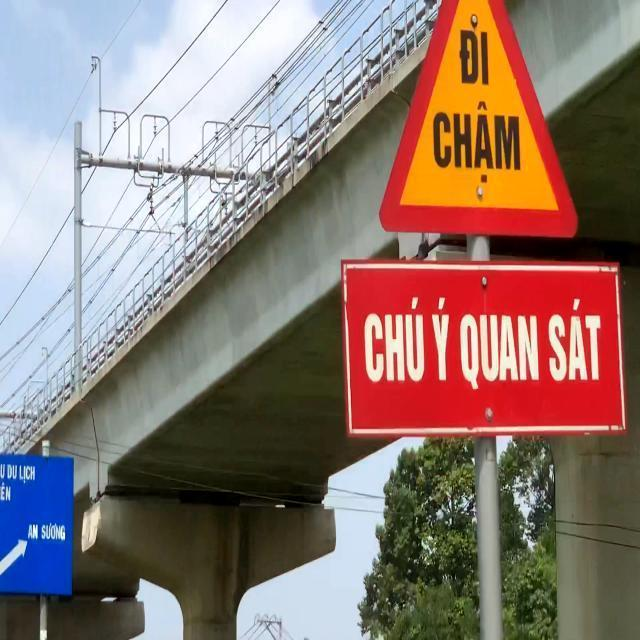245-di-cham: (377, 2, 580, 234)
